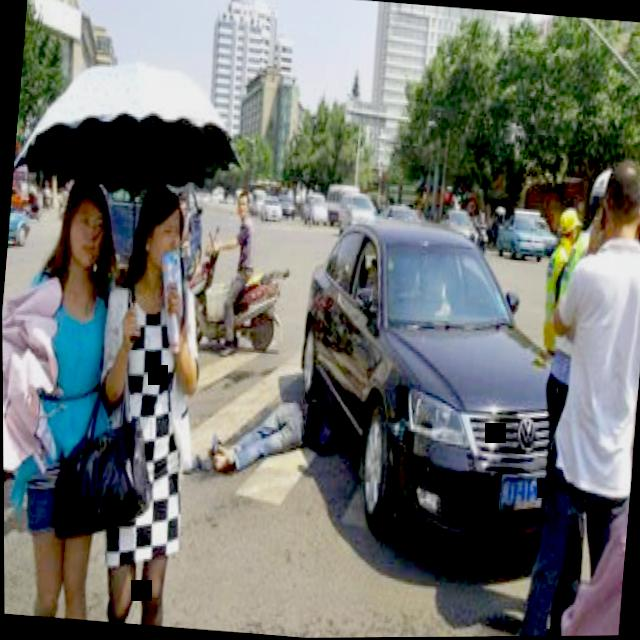Fall-Detected: (196, 362, 340, 492)
